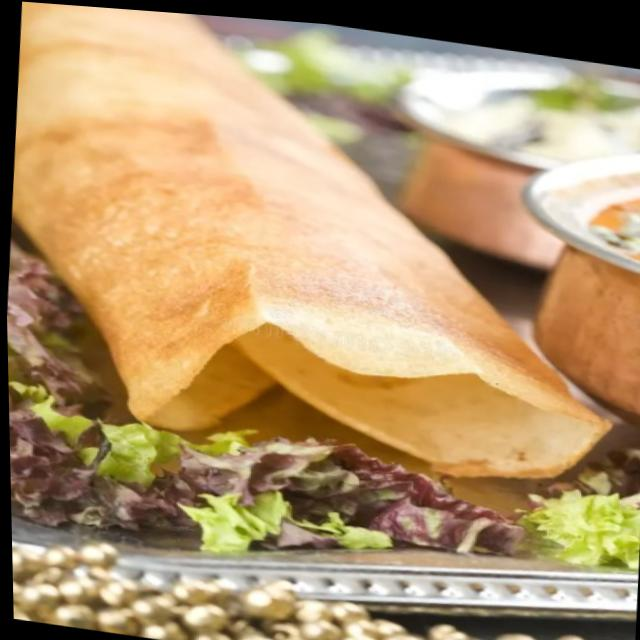DOSA: (13, 2, 609, 477)
